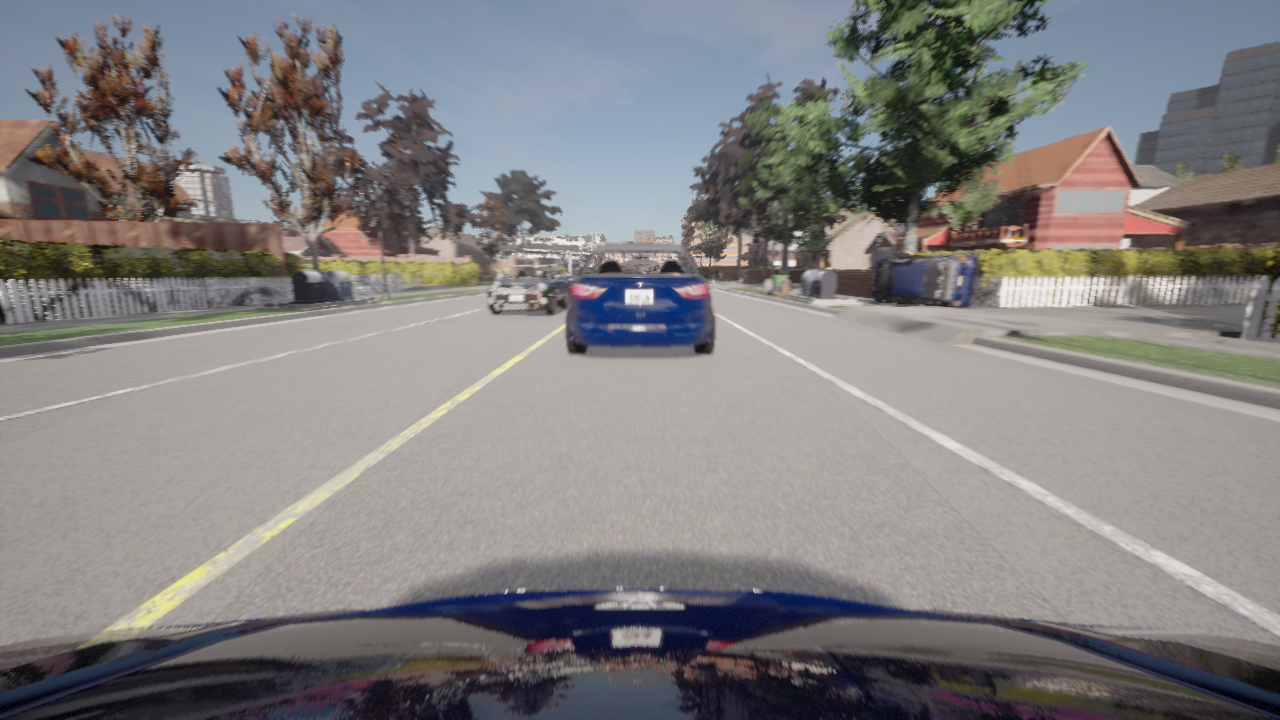cyclist: (0, 588, 1279, 719), (566, 243, 714, 353), (872, 253, 979, 307), (487, 265, 568, 314), (567, 268, 581, 293), (303, 262, 325, 274)
pedestrian: (824, 263, 838, 270), (504, 264, 509, 274)
